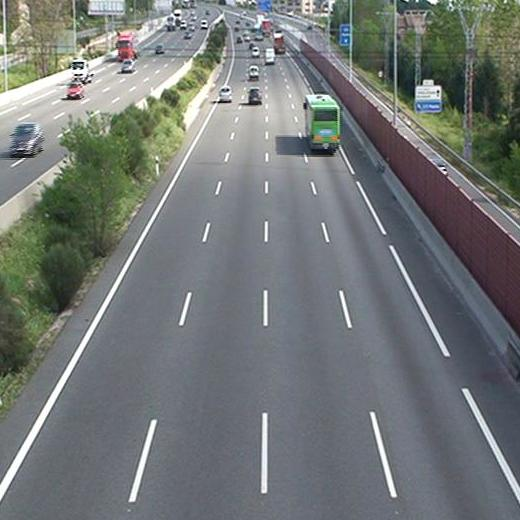bus: (303, 95, 341, 153)
car: (220, 86, 231, 104), (248, 88, 261, 103)
truck: (276, 32, 287, 56)
van: (263, 48, 277, 66), (248, 66, 259, 78), (250, 47, 260, 59)
